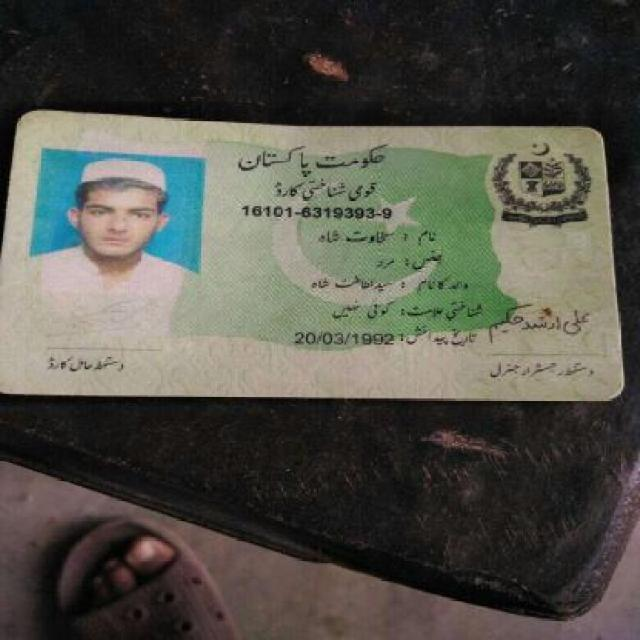Front: (5, 91, 628, 412)
